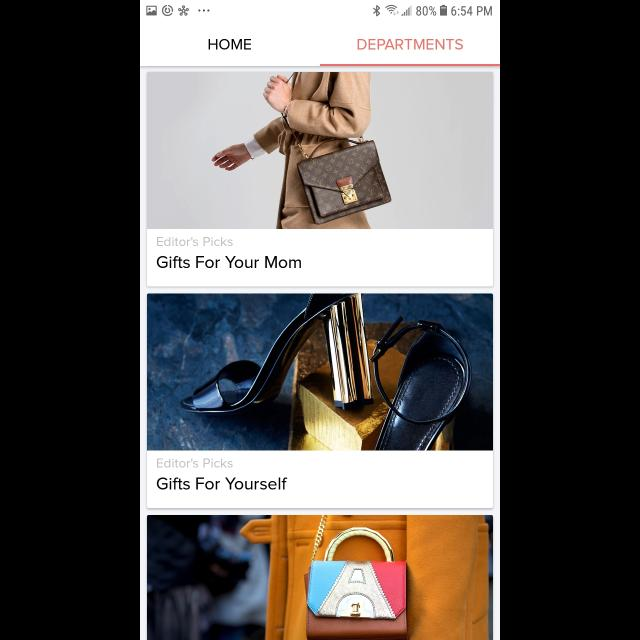image: (146, 71, 494, 229), (147, 294, 493, 451), (147, 515, 493, 640)
text: (157, 256, 301, 268), (156, 478, 288, 490), (357, 40, 463, 50), (158, 458, 234, 468), (157, 237, 233, 247), (208, 40, 252, 50)
uppertaskbar: (140, 1, 500, 18)
